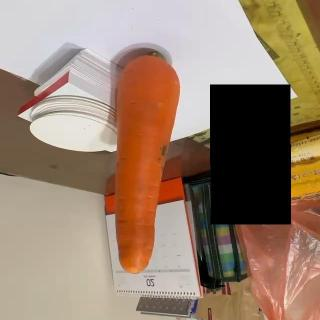carrot: (115, 48, 182, 274)
